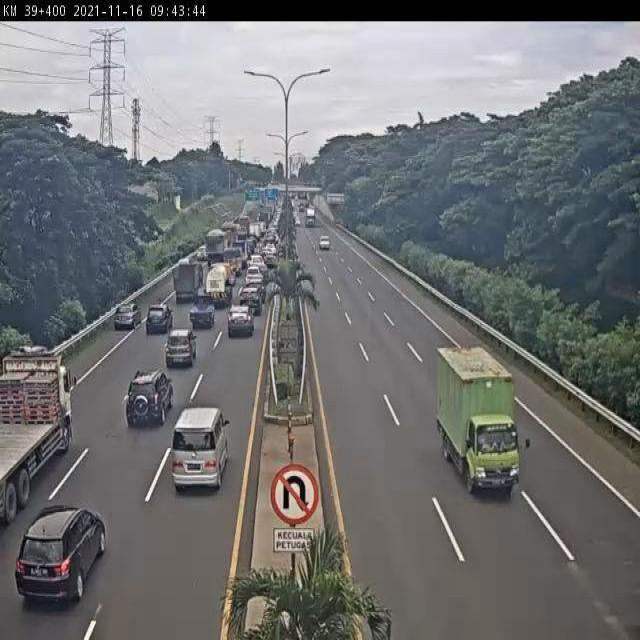car: (16, 504, 106, 605), (173, 405, 227, 491), (127, 369, 173, 428), (165, 330, 197, 370), (228, 304, 255, 340), (190, 295, 216, 329), (147, 304, 173, 336), (114, 303, 143, 329), (240, 288, 262, 315), (246, 281, 266, 303), (246, 265, 264, 284), (248, 254, 264, 266), (319, 236, 331, 251), (294, 217, 301, 227)
small truck: (435, 342, 519, 498), (224, 248, 243, 276)
truck-l-: (0, 345, 73, 527), (206, 230, 228, 266)
truck-m-: (173, 261, 204, 304), (206, 261, 234, 307), (306, 208, 316, 227)
